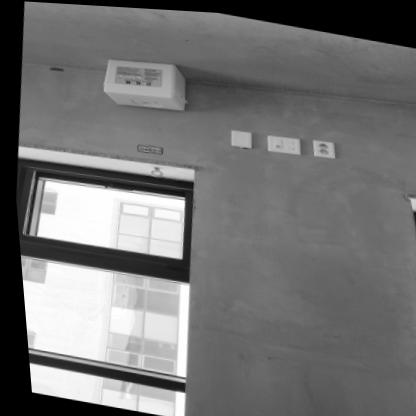DDL: (96, 49, 190, 115)
